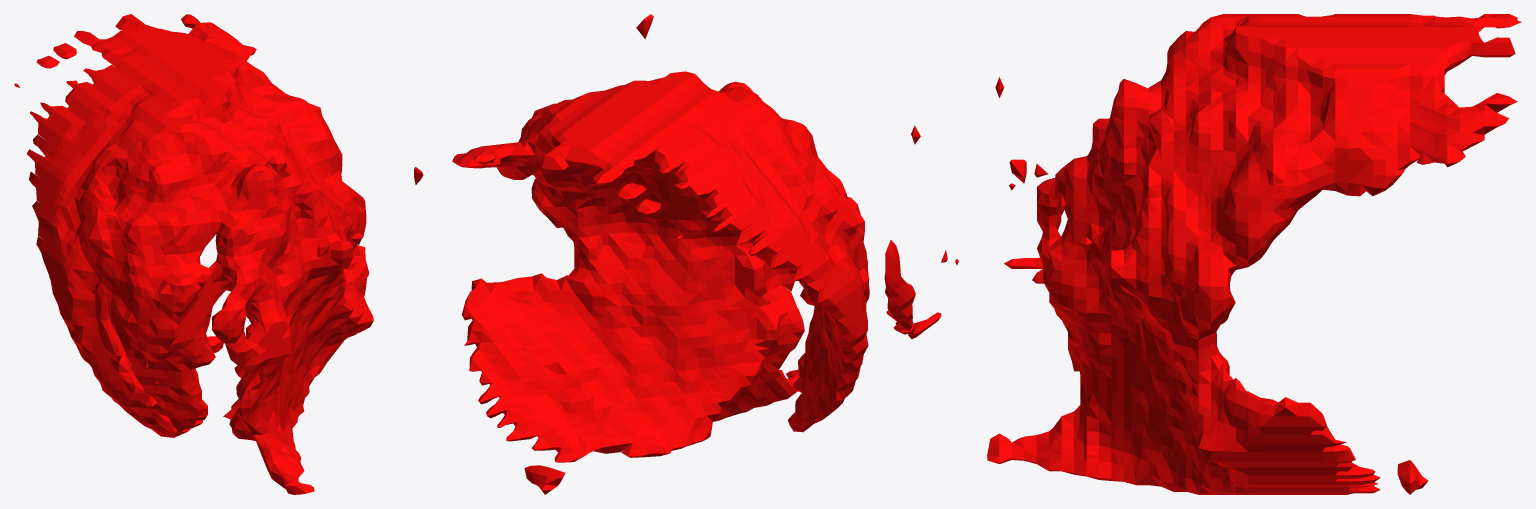
The model's file is B939XXXX-1_valve_9.obj.
3 renders of one model, left to right at view 1: azimuth 30°, elevation 25°; view 2: azimuth 150°, elevation 25°; view 3: azimuth 270°, elevation 25°, orthographic. The views are drawn at different scales.
Parts seen in each view (by area): view 1: 9_valve; view 2: 9_valve; view 3: 9_valve.
Boxes of the visible parts, bbox=[...] form: 9_valve: bbox=[14, 14, 423, 494]; 9_valve: bbox=[452, 14, 958, 494]; 9_valve: bbox=[987, 14, 1521, 494].
Bounding box in the file's own units: 76.96 × 76.97 × 85.95.
